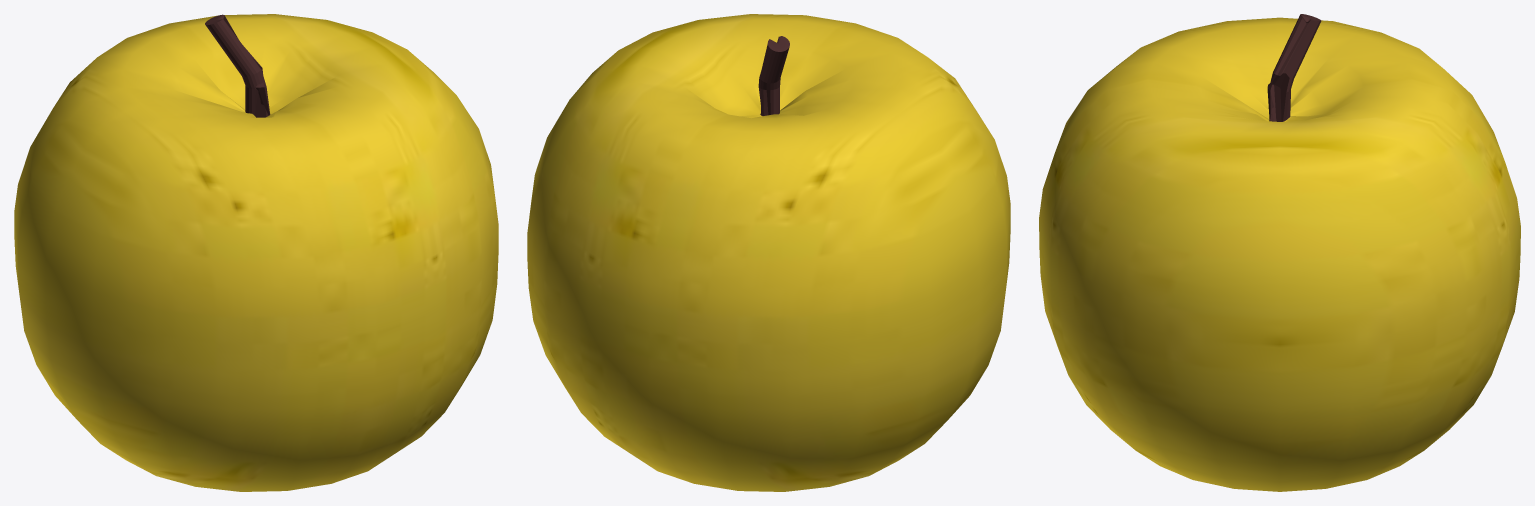
File: Yellow_Apple.fbx
3 views of the same model, side by side, from view 1: azimuth 30°, elevation 25°; view 2: azimuth 150°, elevation 25°; view 3: azimuth 270°, elevation 25° (orthographic).
Visible parts, largest first — view 1: Yellow_Apple; view 2: Yellow_Apple; view 3: Yellow_Apple.
Boxes of the visible parts, left/top/right/bottom form: Yellow_Apple: left=14, top=14, right=498, bottom=491; Yellow_Apple: left=527, top=14, right=1010, bottom=491; Yellow_Apple: left=1039, top=14, right=1520, bottom=491.
Size of the model in its own units: 1.69 by 1.64 by 1.69.
